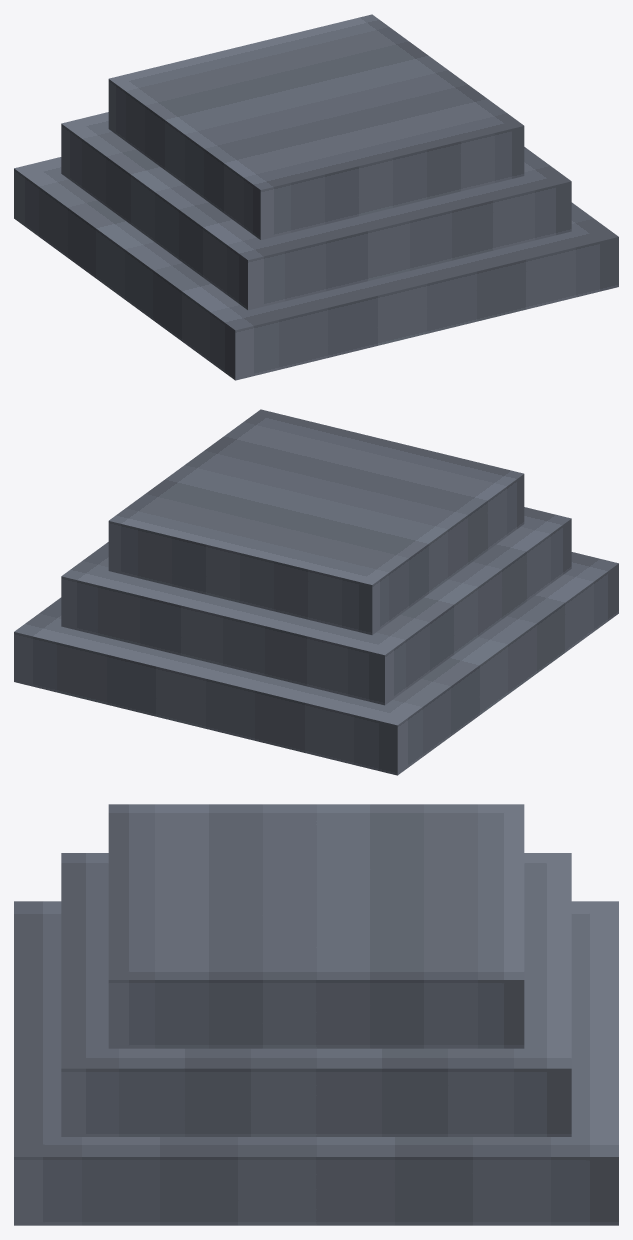
File: ruin_base_forest.gltf
The picture shows the model from 3 angles, top to bottom: view 1: azimuth 30°, elevation 25°; view 2: azimuth 150°, elevation 25°; view 3: azimuth 270°, elevation 25°; orthographic projection. The views are drawn at different scales.
Parts seen in each view (by area): view 1: root_mesh; view 2: root_mesh; view 3: root_mesh.
Part boxes in pixels (x1,y1,x2,y2): root_mesh: (14, 14, 618, 380); root_mesh: (14, 409, 618, 775); root_mesh: (14, 804, 618, 1225).
Bounding box in the file's own units: 2 × 0.75 × 2.
Materials: 1 (1 with a texture image).
